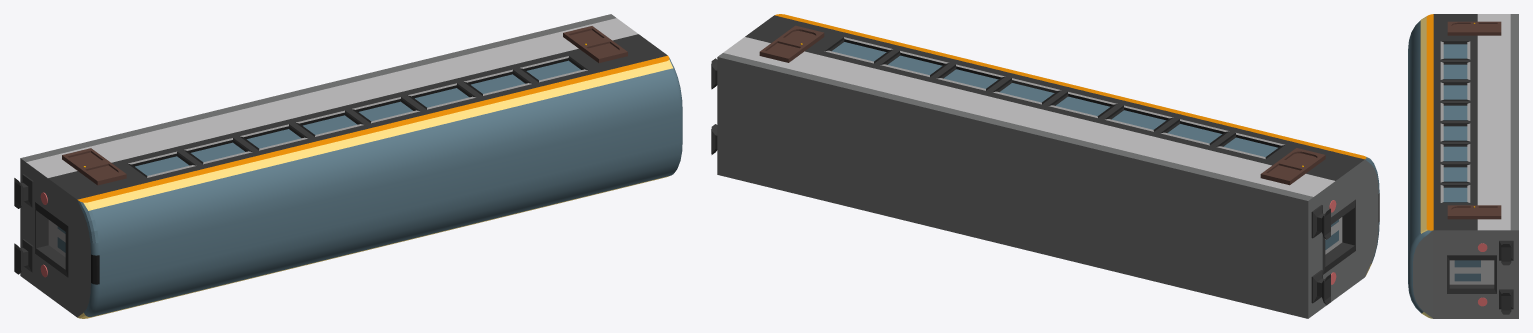
Rendered from wagon.glb.
3 renders of one model, left to right at view 1: azimuth 30°, elevation 25°; view 2: azimuth 150°, elevation 25°; view 3: azimuth 270°, elevation 25°, orthographic. The views are drawn at different scales.
Parts seen in each view (by area): view 1: Wagon, Cylinder; view 2: Wagon, Cylinder; view 3: Wagon, Cylinder.
Boxes of the visible parts, x1,y1,x2,y2 form: Wagon: (20, 14, 682, 318); Cylinder: (14, 174, 47, 277); Wagon: (717, 14, 1379, 318); Cylinder: (711, 58, 1336, 305); Wagon: (1408, 14, 1518, 318); Cylinder: (1477, 240, 1513, 314).
Bounding box in the file's own units: 16.63 × 3.3 × 3.46.
3 materials, 3 textured.
